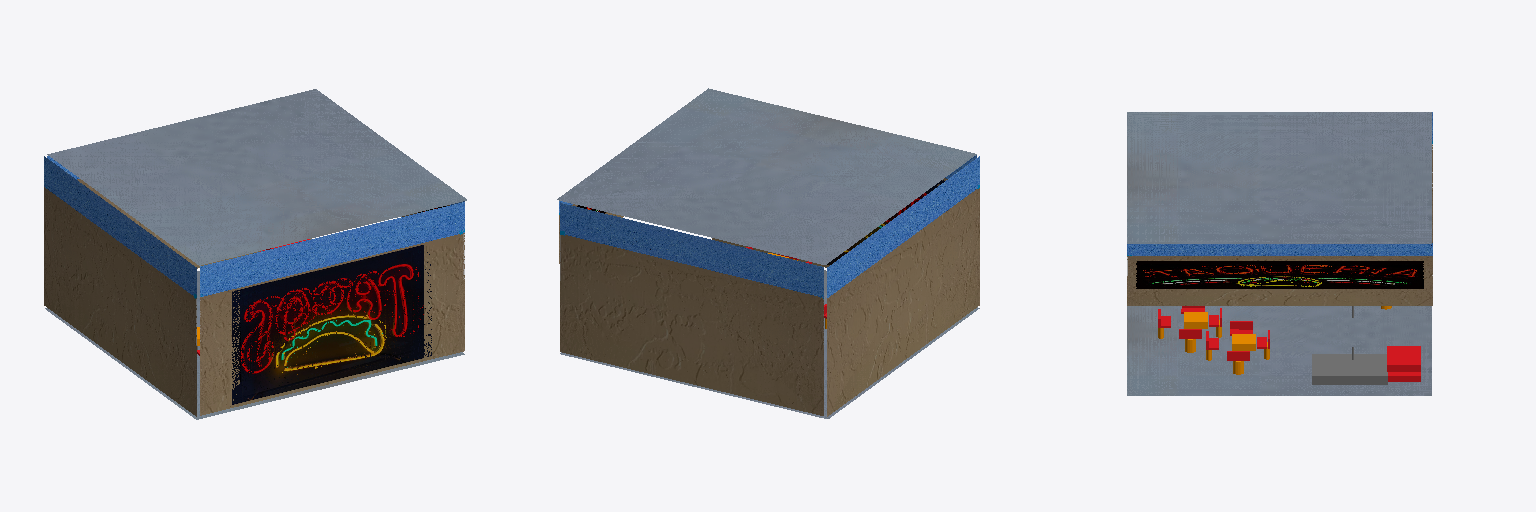
3 views of the same model, side by side, from view 1: azimuth 30°, elevation 25°; view 2: azimuth 150°, elevation 25°; view 3: azimuth 270°, elevation 25° (orthographic).
Parts seen in each view (by area): view 1: Box015, Box010, Box014, Box012, Box013; view 2: Box015, Box013, Box014, Box012, Box010; view 3: Box015, Box012, Box016, Box139, Box136.
Part boxes in pixels (bbox=[...]): Box015: bbox=[47, 89, 466, 265]; Box010: bbox=[200, 202, 464, 415]; Box014: bbox=[44, 156, 196, 416]; Box012: bbox=[45, 271, 464, 419]; Box013: bbox=[47, 156, 311, 268]; Box015: bbox=[557, 88, 976, 264]; Box013: bbox=[560, 203, 823, 415]; Box014: bbox=[827, 156, 979, 416]; Box012: bbox=[560, 270, 979, 418]; Box010: bbox=[712, 155, 976, 267]; Box015: bbox=[1127, 112, 1431, 243]; Box012: bbox=[1127, 306, 1431, 395]; Box016: bbox=[1127, 243, 1432, 305]; Box139: bbox=[1312, 354, 1387, 384]; Box136: bbox=[1387, 346, 1420, 371].
Bounding box in the file's own units: 111 × 61.54 × 109.
9 materials, 7 textured.